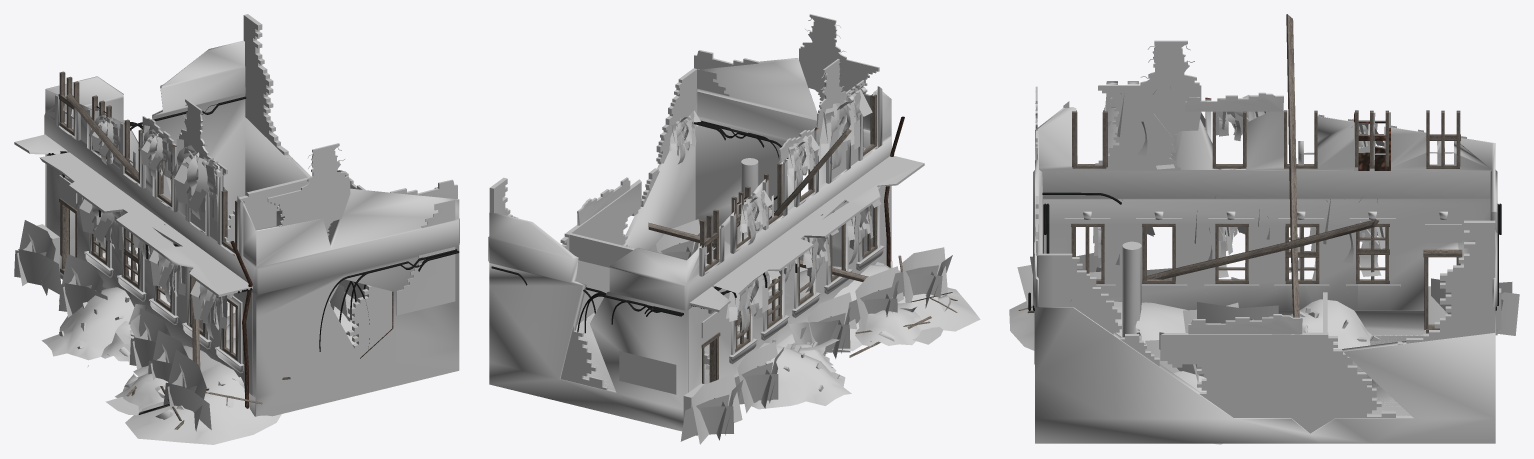
Rendered from greenhouse1_LOD0.fbx.
3 views of the same model, side by side, from view 1: azimuth 30°, elevation 25°; view 2: azimuth 150°, elevation 25°; view 3: azimuth 270°, elevation 25° (orthographic). The views are drawn at different scales.
Parts seen in each view (by area): view 1: greenhouse1_LOD0; view 2: greenhouse1_LOD0; view 3: greenhouse1_LOD0.
Part boxes in pixels (x1,y1,x2,y2): greenhouse1_LOD0: (14, 14, 459, 444); greenhouse1_LOD0: (488, 14, 980, 444); greenhouse1_LOD0: (1009, 14, 1519, 444).
Size of the model in its own units: 7.63 by 6.65 by 9.99.
